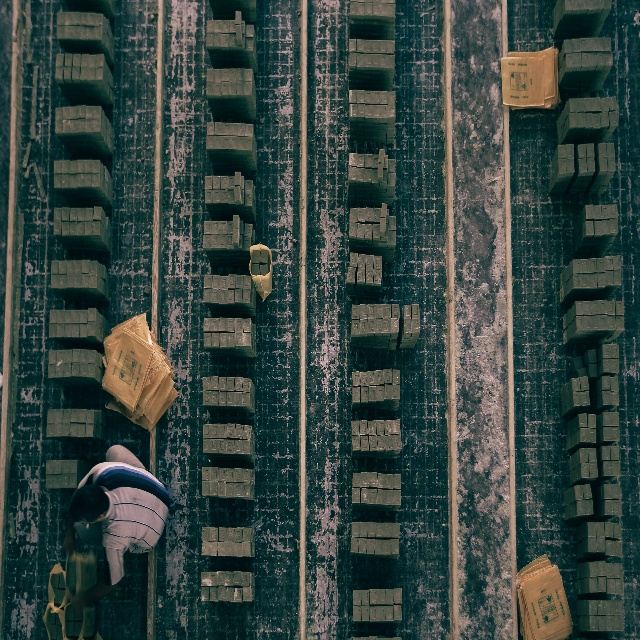Sin_guantes: (70, 589, 90, 613), (61, 531, 74, 556)
